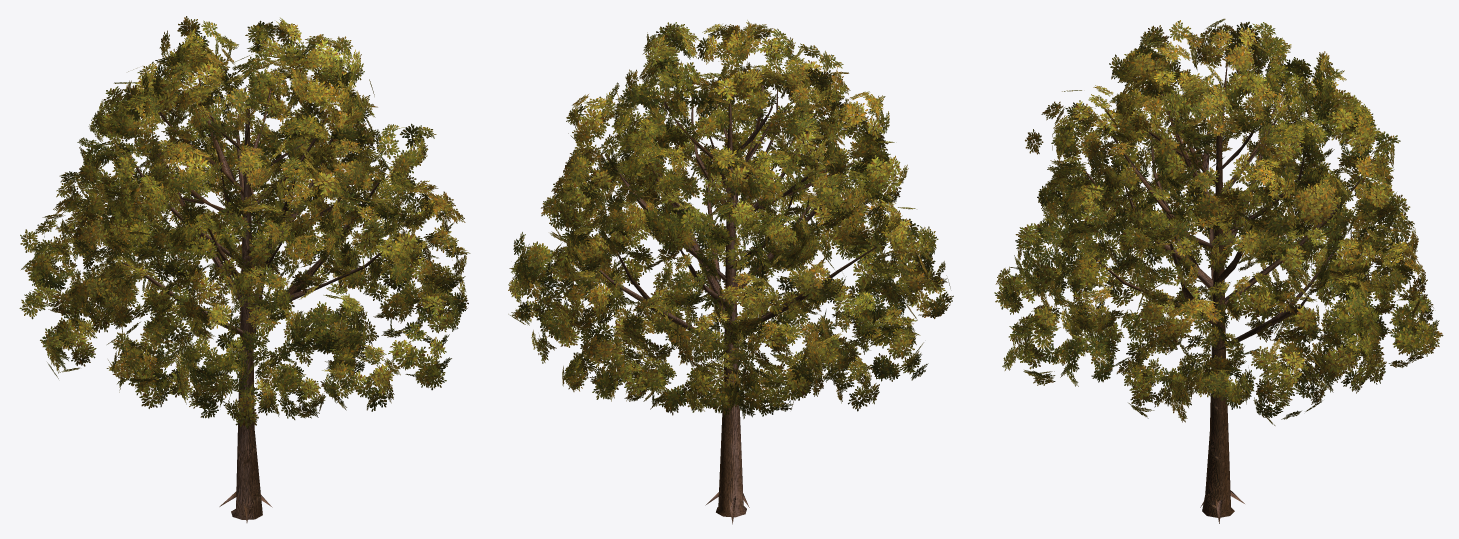
Rendered from mm7_deco_7tree17.glb.
3 renders of one model, left to right at view 1: azimuth 30°, elevation 25°; view 2: azimuth 150°, elevation 25°; view 3: azimuth 270°, elevation 25°, orthographic.
Visible parts, largest first — view 1: Tree; view 2: Tree; view 3: Tree.
Boxes of the visible parts, x1,y1,x2,y2 form: Tree: (19, 16, 470, 522); Tree: (508, 20, 953, 524); Tree: (994, 18, 1443, 523).
Bounding box in the file's own units: 7.02 × 7.96 × 6.93.
Materials: 2 (2 with a texture image).
